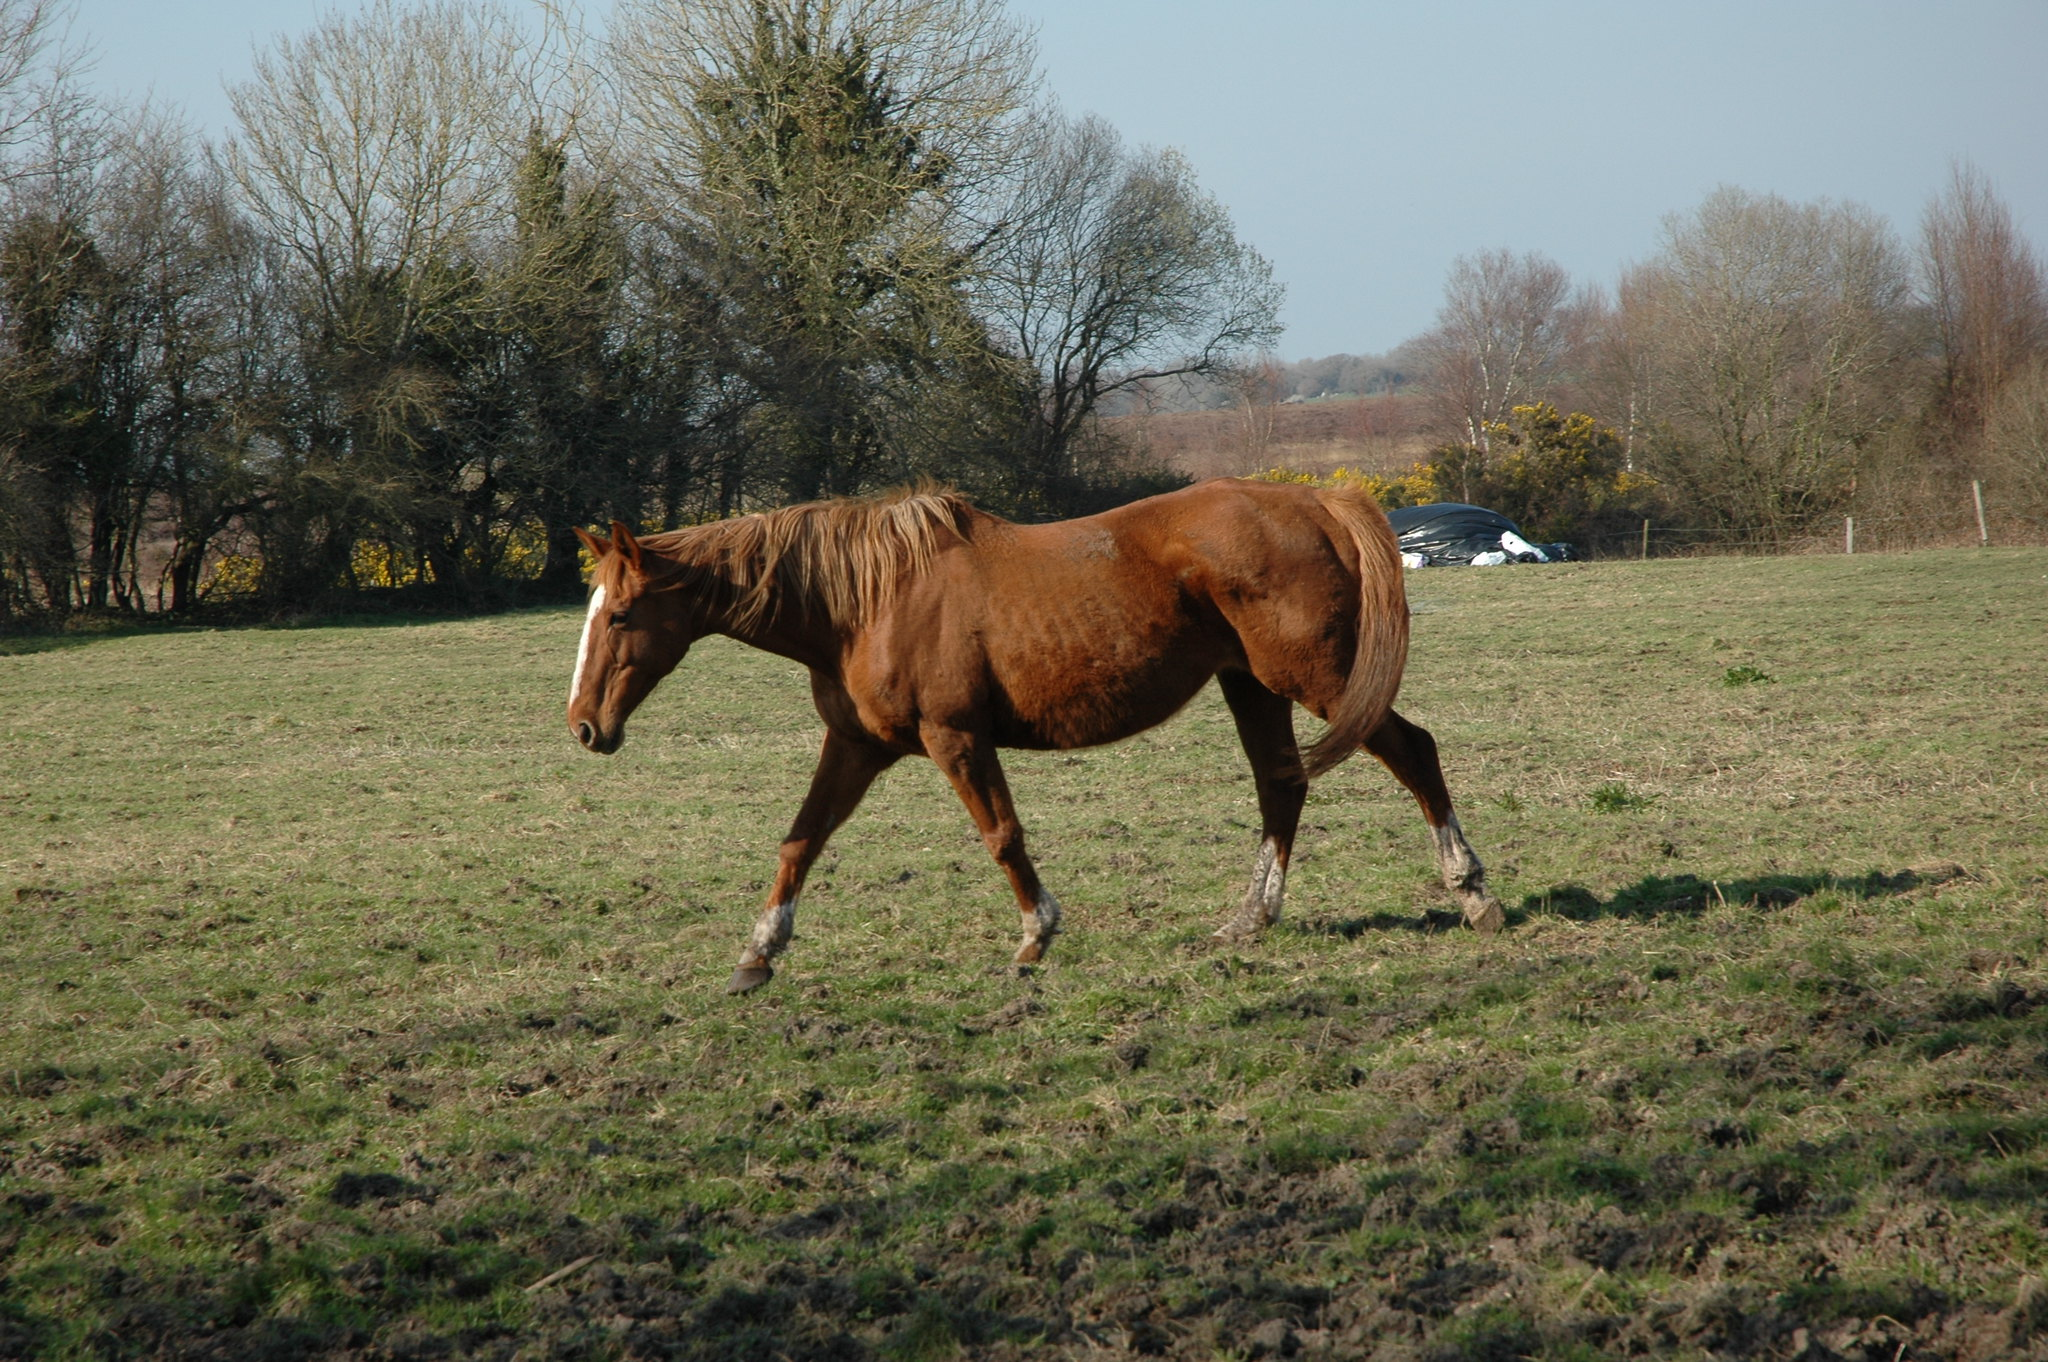horse: (555, 489, 1548, 941)
